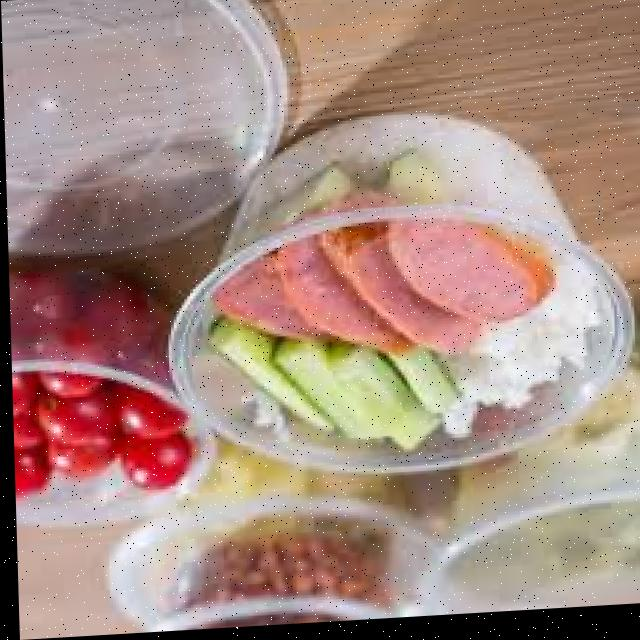disposable: (153, 80, 634, 500)
